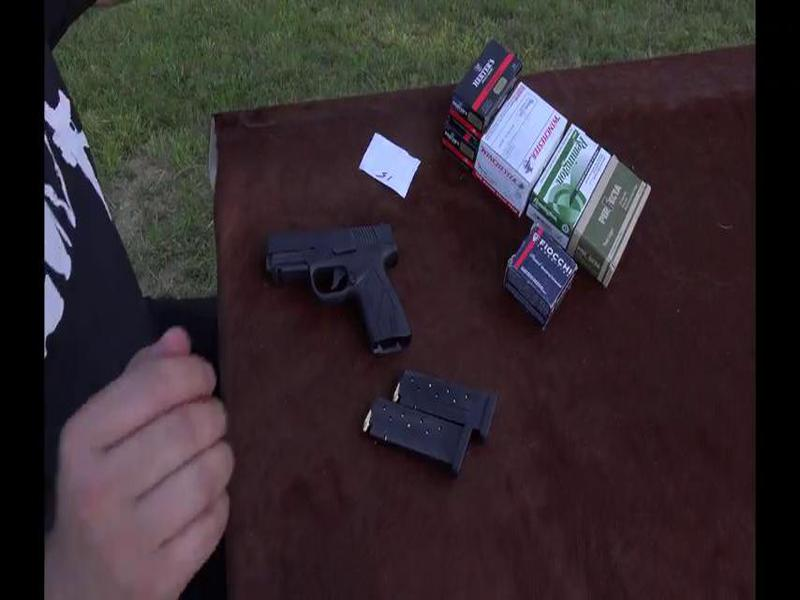Pistola: (259, 220, 426, 359)
